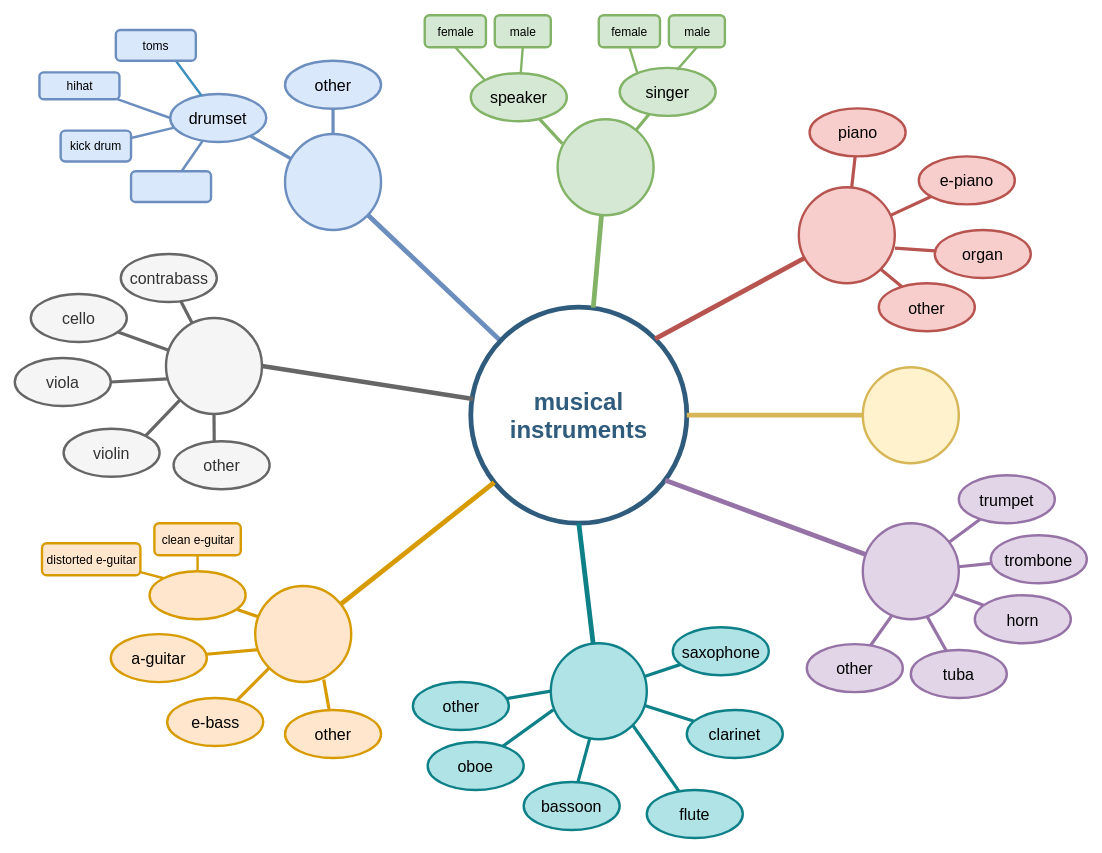
Image size: 1102x853. Some labels were removed from this diagram. The centre of each missing label's shape, as x and y in pixels:
bowed strings: point (213, 365)
brass: point (910, 571)
e-guitar: point (197, 595)
key: point (846, 235)
percussion: point (332, 181)
plucked strings: point (303, 633)
snare drum: point (170, 186)
synth: point (910, 415)
voice: point (605, 167)
woodwind: point (598, 691)
